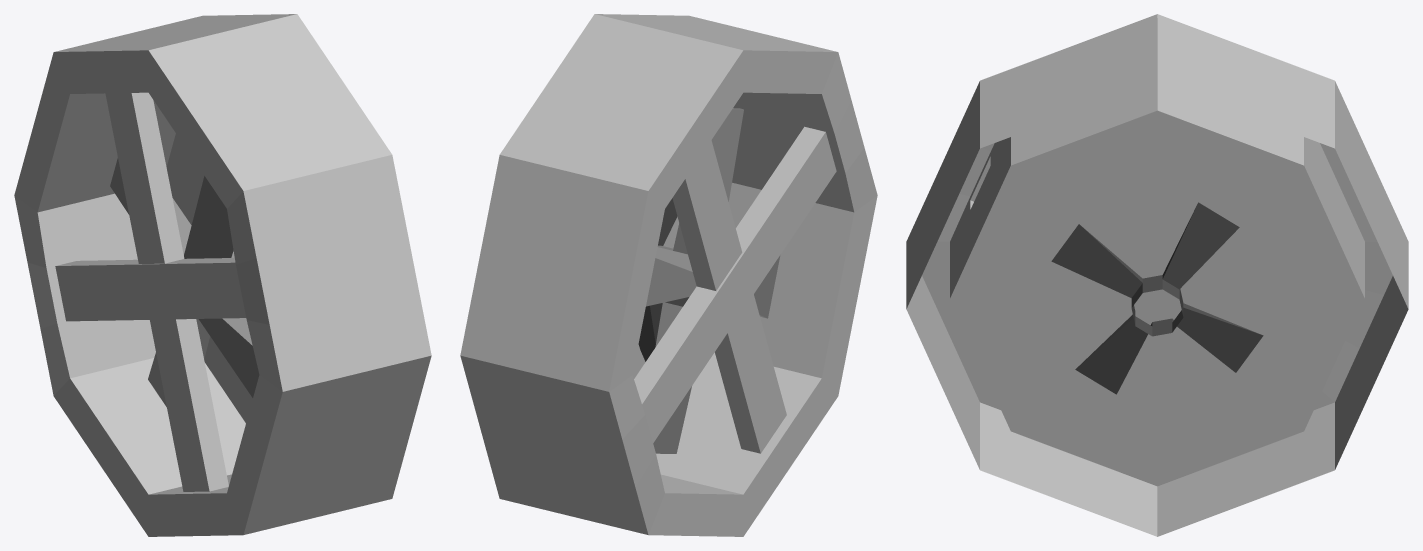
The model's file is Fan.fbx.
3 renders of one model, left to right at view 1: azimuth 30°, elevation 25°; view 2: azimuth 150°, elevation 25°; view 3: azimuth 270°, elevation 25°, orthographic. The views are drawn at different scales.
Parts seen in each view (by area): view 1: Cylinder.006, Cylinder.007, Cylinder.009; view 2: Cylinder.006, Cylinder.007, Cylinder.008; view 3: Cylinder.009, Cylinder.006, Cylinder.008.
Part boxes in pixels (x1,y1,x2,y2): Cylinder.006: [14, 14, 431, 536]; Cylinder.007: [110, 158, 259, 407]; Cylinder.009: [166, 134, 252, 422]; Cylinder.006: [460, 14, 877, 536]; Cylinder.007: [646, 108, 780, 453]; Cylinder.008: [638, 198, 677, 361]; Cylinder.009: [950, 110, 1364, 486]; Cylinder.006: [906, 14, 1408, 536]; Cylinder.008: [1051, 202, 1263, 394].
Size of the model in its own units: 197 by 578 by 578.
